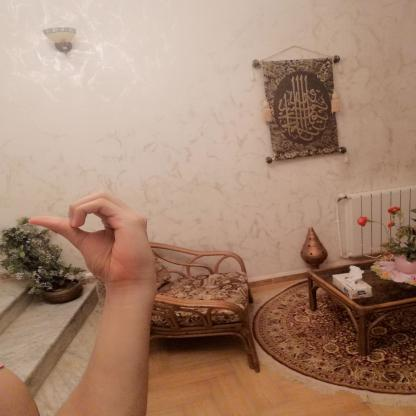WAW: (19, 185, 163, 291)
